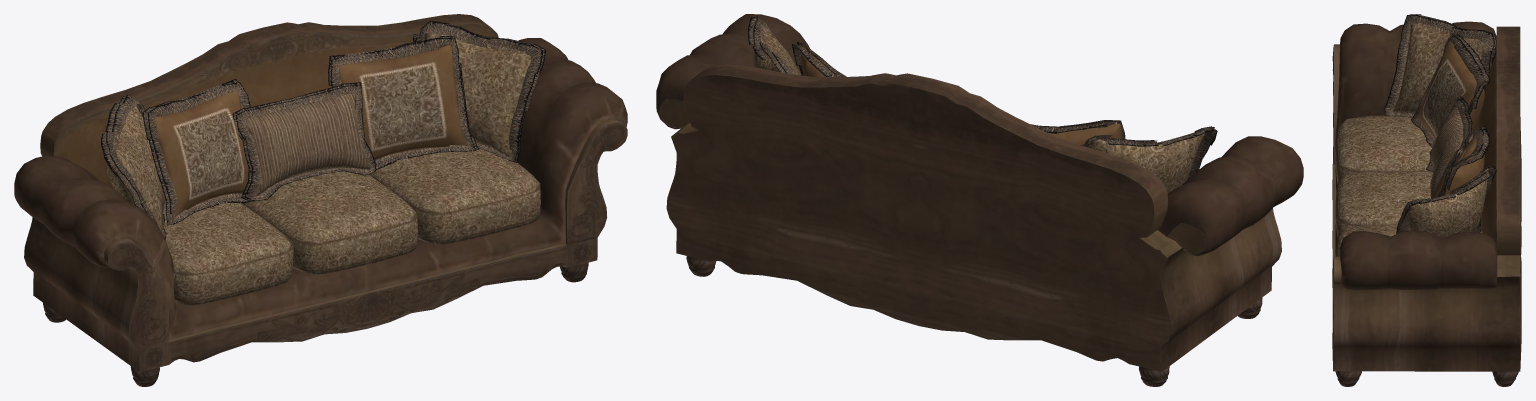
File: sofa.glb
The picture shows the model from 3 angles, left to right: view 1: azimuth 30°, elevation 25°; view 2: azimuth 150°, elevation 25°; view 3: azimuth 270°, elevation 25°; orthographic projection. The views are drawn at different scales.
Visible parts, largest first — view 1: sofa_03; view 2: sofa_03; view 3: sofa_03.
Part boxes in pixels (x1,y1,x2,y2): sofa_03: (14,14,627,386); sofa_03: (656,14,1303,386); sofa_03: (1332,14,1521,386).
Bounding box in the file's own units: 2.73 × 1.12 × 0.925.
2 materials, 2 textured.
